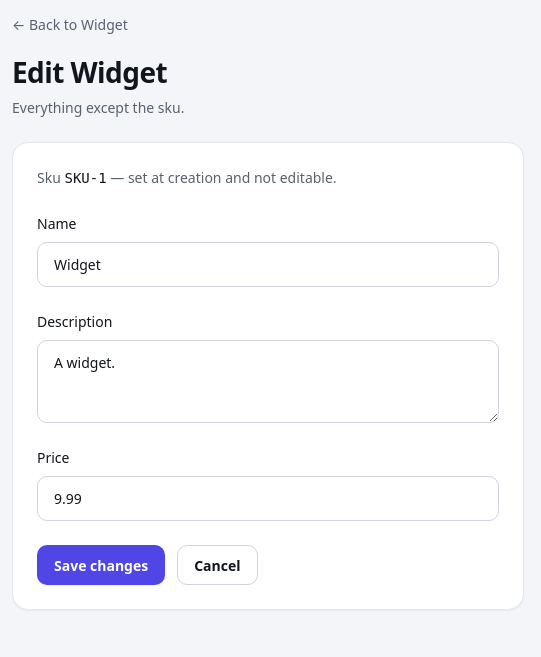
it: EditProductForm › renders per-field validation messages against their fields
Clear the field labelled "Name": (268, 264) [37,242,499,287]
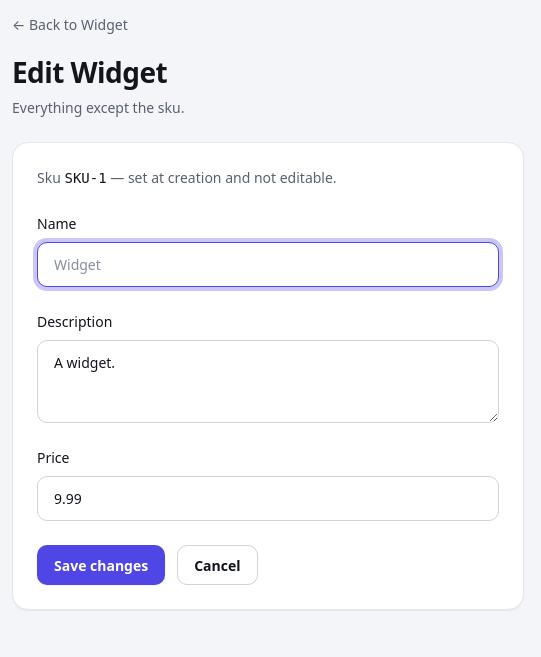
Click the button "Save changes": (101, 565) [37,545,165,585]
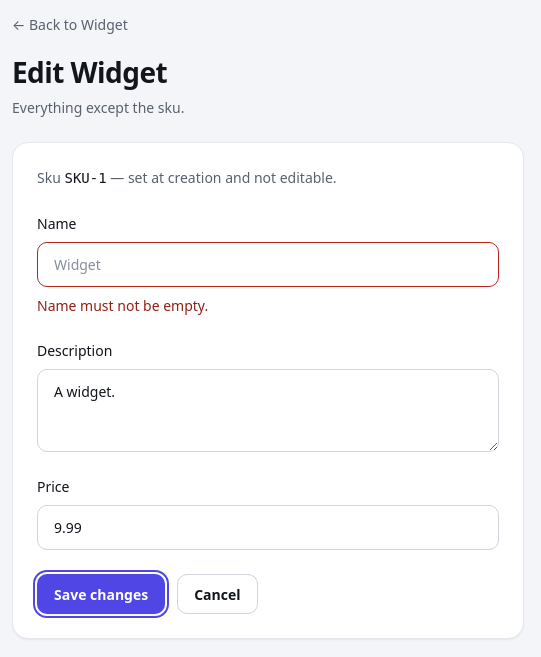
Expected: the text "Name must not be empty." is shown, [37,296,208,315]
